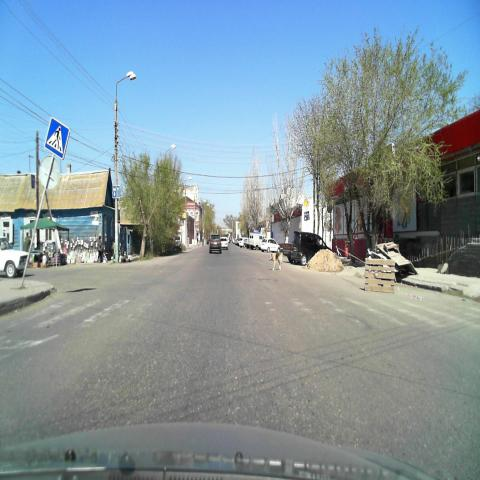5_11: (112, 185, 120, 199)
